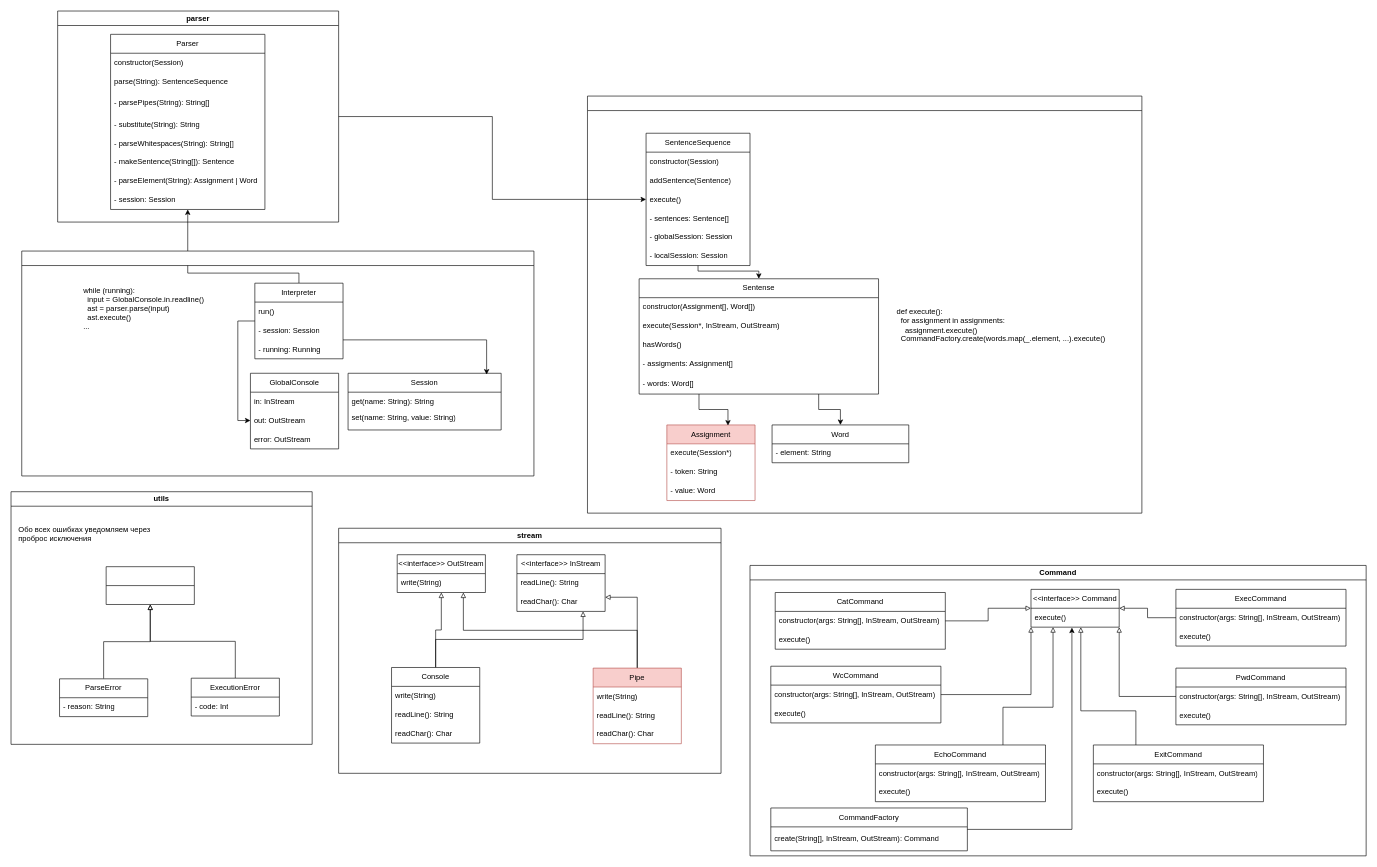
Some shapes in this 1377 by 867 pixel diagram are drawn without their labels. The centre of each missing label's shape, as x and y in pixels:
"CLIError" goes at (150,585).
"i nterpreter" goes at (277,363).
"sentence" goes at (864,304).
